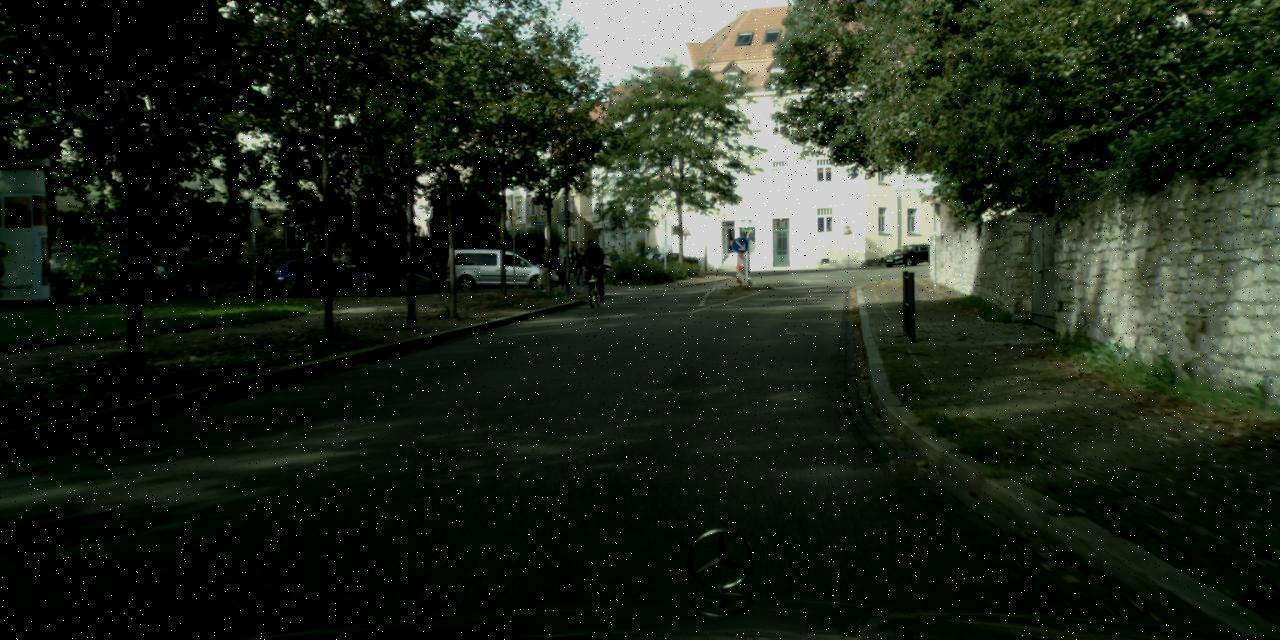ped: (582, 239, 604, 297), (417, 253, 446, 288), (537, 246, 555, 291)
